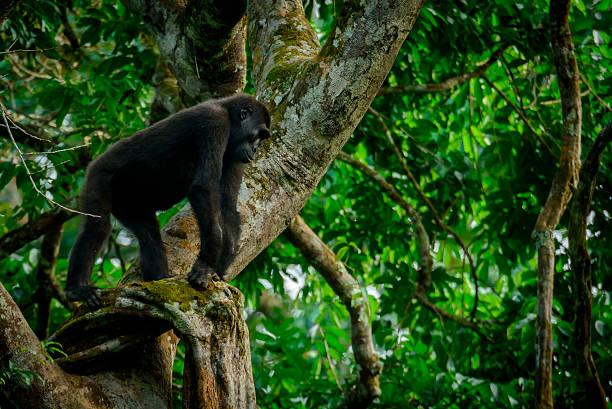gorille_Autres: (60, 86, 278, 281)
